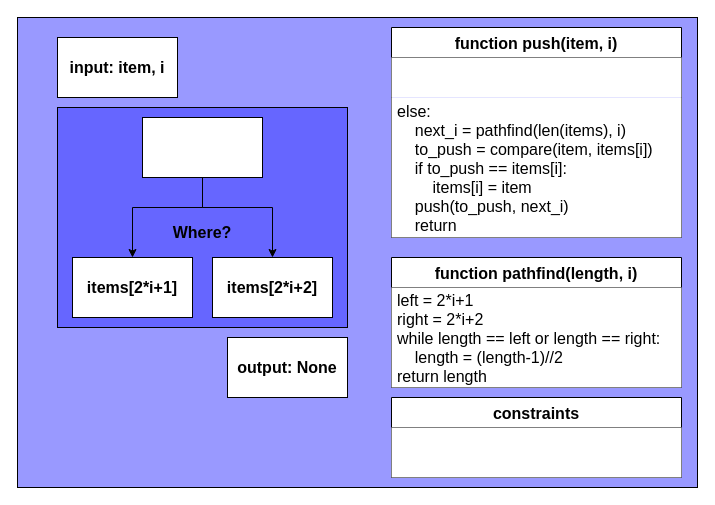
Image size: 715x505. Some labels were removed from this diagram. Each missing label, with the centre of its shape:
"for function to be possible, push must start at i == 0" goes at point 536,452.
"if i == len(items): items.append(item)" goes at point 536,77.
"items[i]" goes at point 202,147.
